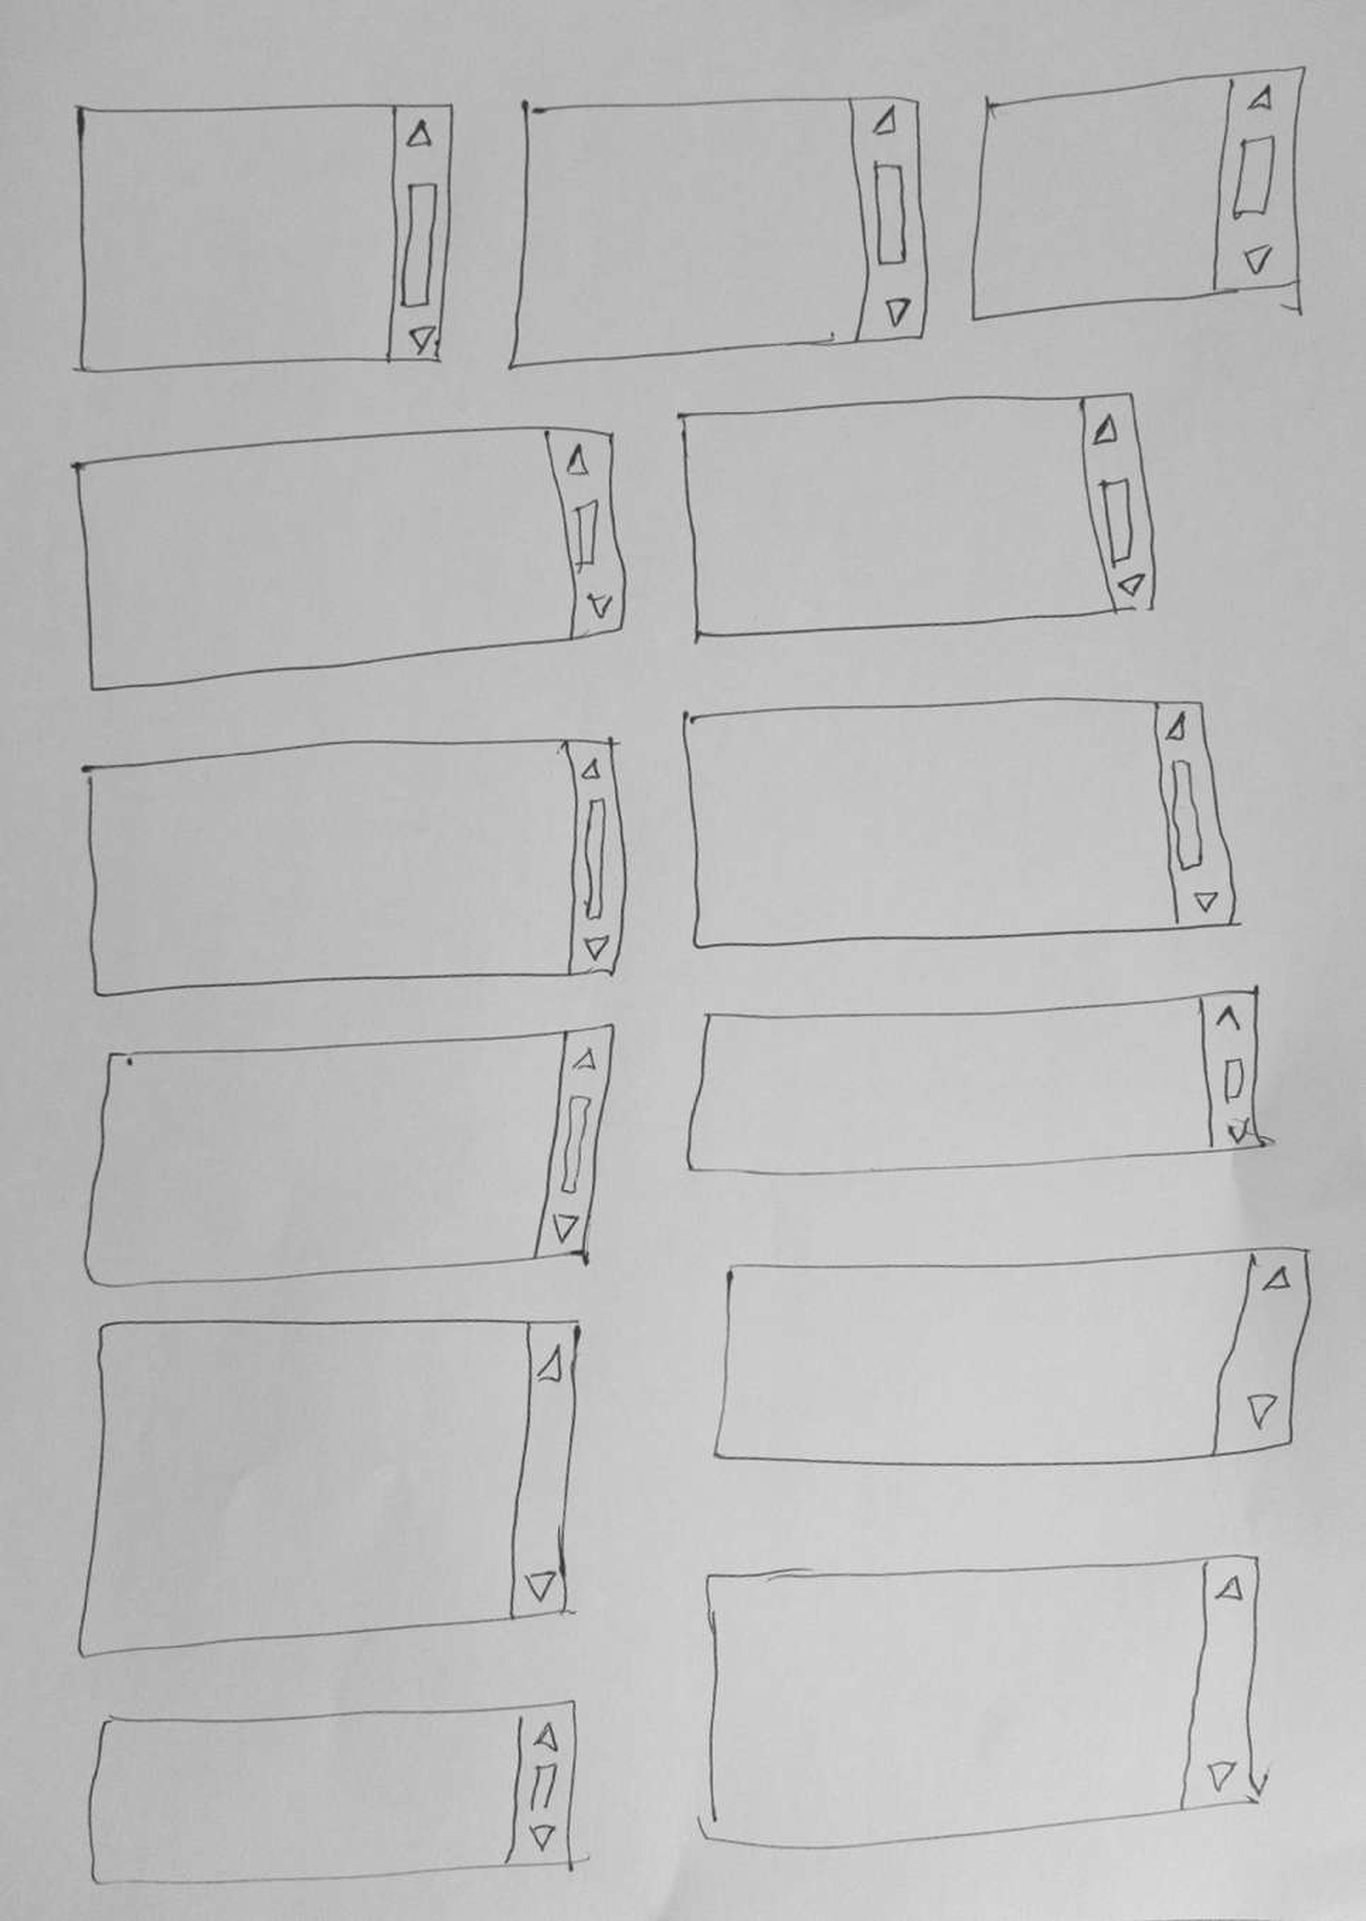Textarea: (77, 1320, 581, 1659), (696, 1555, 1268, 1850), (71, 426, 627, 692), (81, 736, 627, 997), (83, 1023, 615, 1289), (682, 697, 1240, 949), (713, 1246, 1316, 1467), (677, 392, 1156, 644), (509, 95, 928, 371), (686, 986, 1276, 1176), (72, 103, 454, 372), (89, 1699, 591, 1886), (971, 66, 1305, 322)
